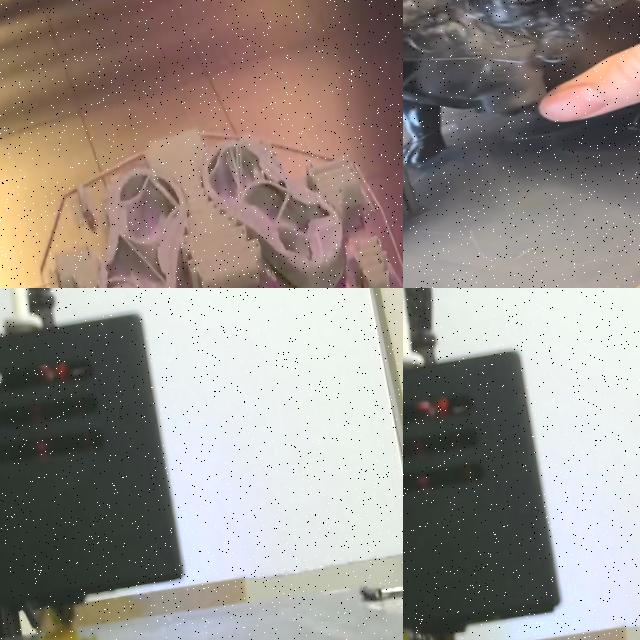spaghetti: (403, 0, 639, 121), (10, 615, 119, 640)
